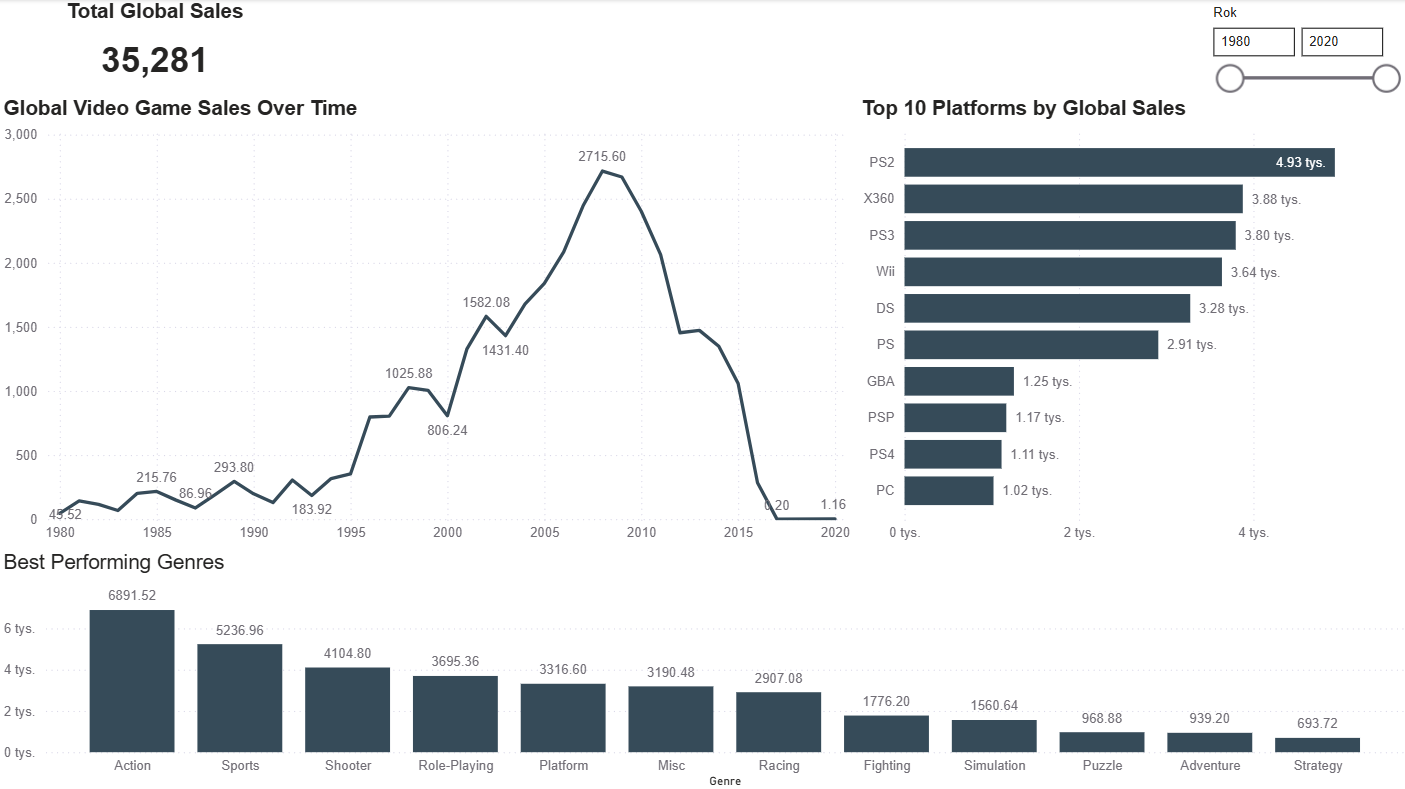

The dashboard page shown, as its layout file describes it:
{"tool":"powerbi","page":{"name":"Global Sales Overview","canvas":[1280,720],"ordinal":0},"visuals":[{"type":"card","title":"Total Global Sales","fields":{"Values":["Sum(vgsales.Global_Sales)"]},"box":[0,0,284.7,88],"z":0},{"type":"lineChart","title":"Global Video Game Sales Over Time","fields":{"Category":["vgsales.Year.Odmiana.Hierarchia dat.Rok"],"Y":["Sum(vgsales.Global_Sales)"]},"box":[0,88,778,411.7],"z":1000},{"type":"barChart","title":"Top 10 Platforms by Global Sales","fields":{"Category":["vgsales.Platform"],"Y":["Sum(vgsales.Global_Sales)"]},"box":[778,88,502.4,411.7],"z":2000},{"type":"columnChart","title":"Best Performing Genres","fields":{"Category":["vgsales.Genre"],"Y":["Sum(vgsales.Global_Sales)"]},"box":[0,499.6,1280.4,220.4],"z":3000},{"type":"slicer","fields":{"Values":["vgsales.Year.Odmiana.Hierarchia dat.Rok"]},"box":[1089.1,0,191.3,88],"z":4000}]}

Visuals, with their boxes in screenshot pixels (x1, y1, x2, y2), scaled from the page's 1280x720 canvas onto the 1405x789 screenshot:
"Total Global Sales" card: 0 0 313 96
"Global Video Game Sales Over Time" lineChart: 0 96 854 548
"Top 10 Platforms by Global Sales" barChart: 854 96 1404 548
"Best Performing Genres" columnChart: 0 547 1404 788
slicer - vgsales.Year.Odmiana.Hierarchia dat.Rok: 1195 0 1404 96
